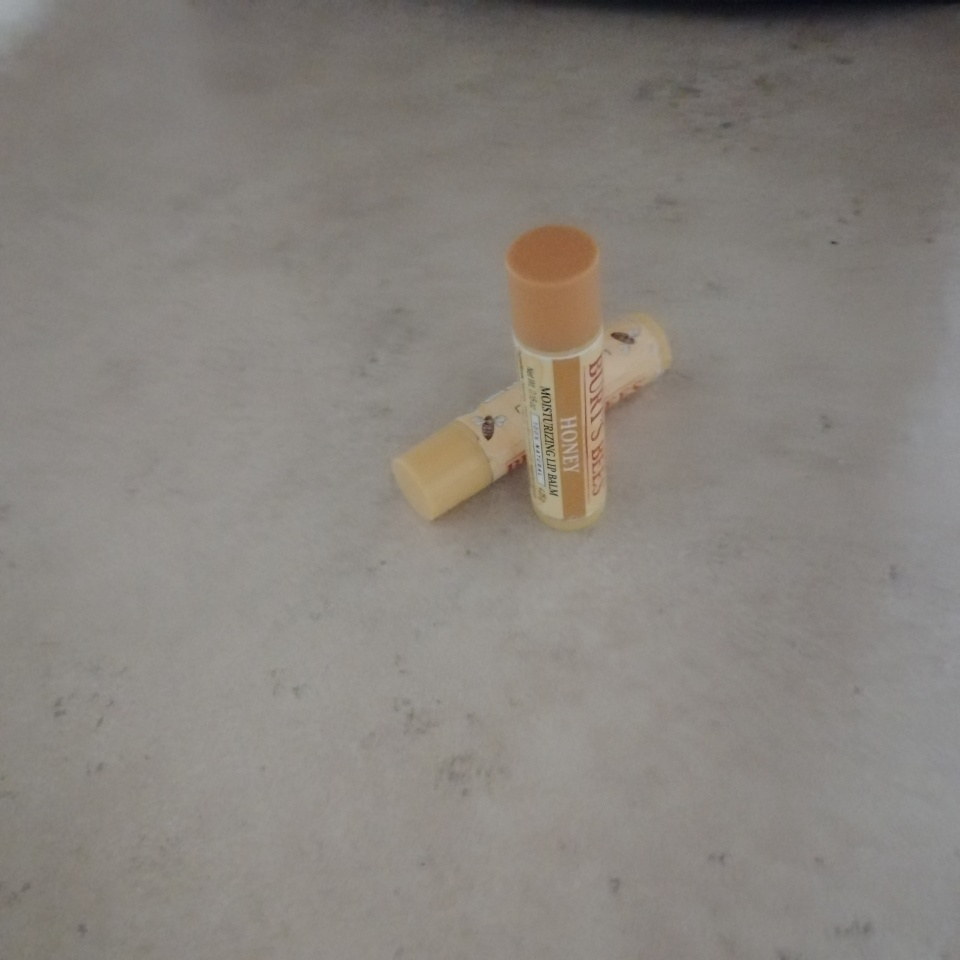chapstick: (392, 313, 673, 520), (507, 225, 607, 530)
